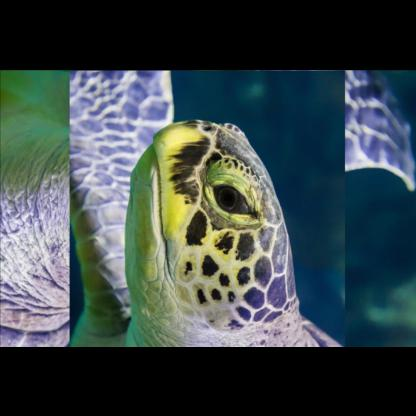turtle: (34, 69, 378, 345)
